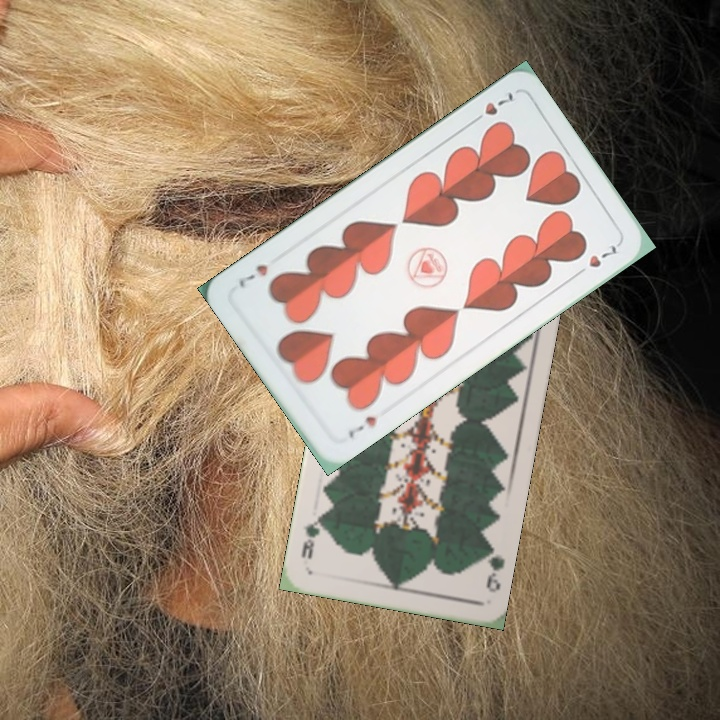G9: (480, 540, 507, 595)
H7: (466, 88, 519, 127), (343, 411, 379, 441)
